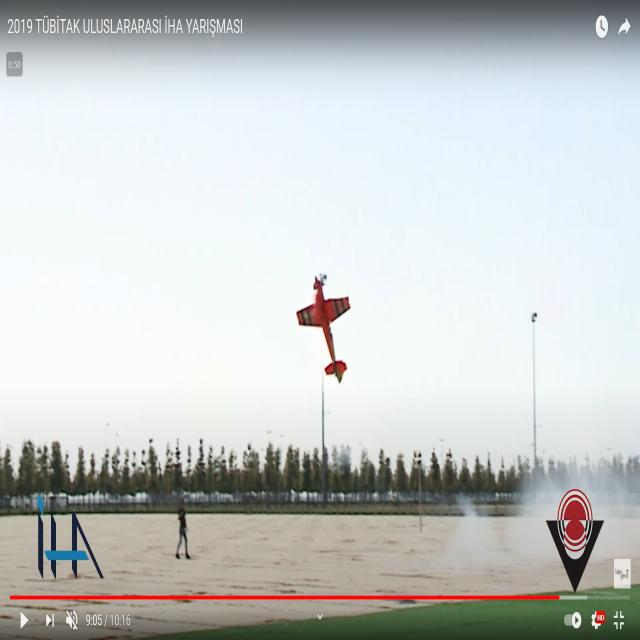iha: (297, 296, 350, 347)
